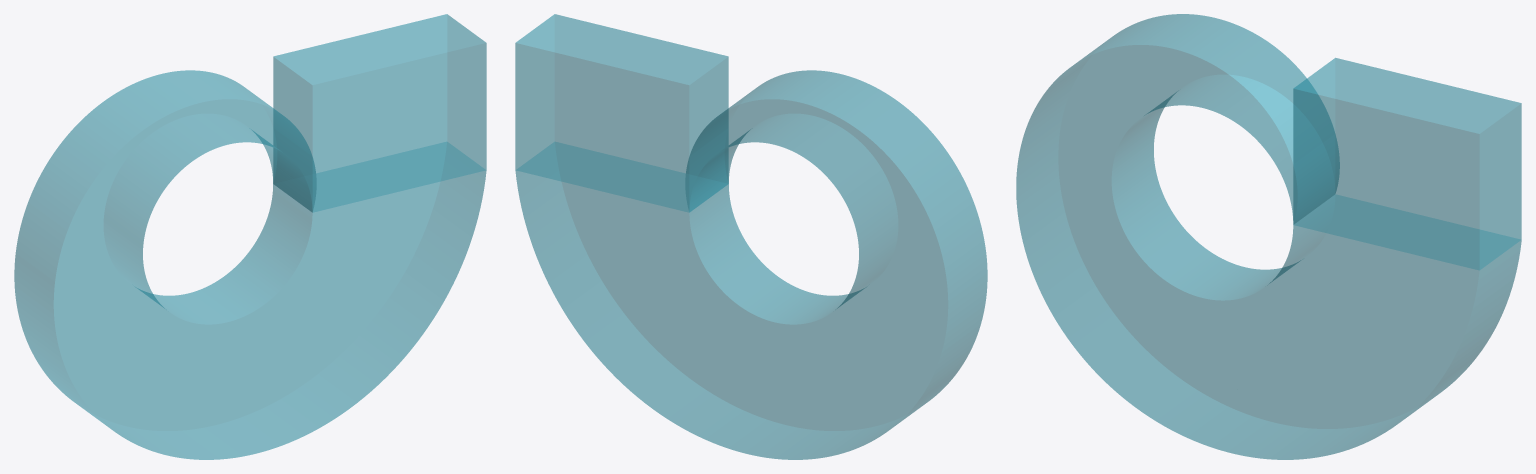
The model's file is voluta_sirocco_v1_2.obj.
3 views of the same model, side by side, from view 1: azimuth 30°, elevation 25°; view 2: azimuth 150°, elevation 25°; view 3: azimuth 330°, elevation 25° (orthographic). The views are drawn at different scales.
Parts seen in each view (by area): view 1: pasaje_espiral, descarga; view 2: pasaje_espiral, descarga; view 3: pasaje_espiral, descarga.
Part boxes in pixels (<box>): pasaje_espiral: <box>14,70,486,459</box>; descarga: <box>273,14,486,212</box>; pasaje_espiral: <box>515,70,987,459</box>; descarga: <box>515,14,728,212</box>; pasaje_espiral: <box>1016,14,1521,459</box>; descarga: <box>1293,58,1521,270</box>.
Size of the model in its own units: 1776 by 1429 by 280.
